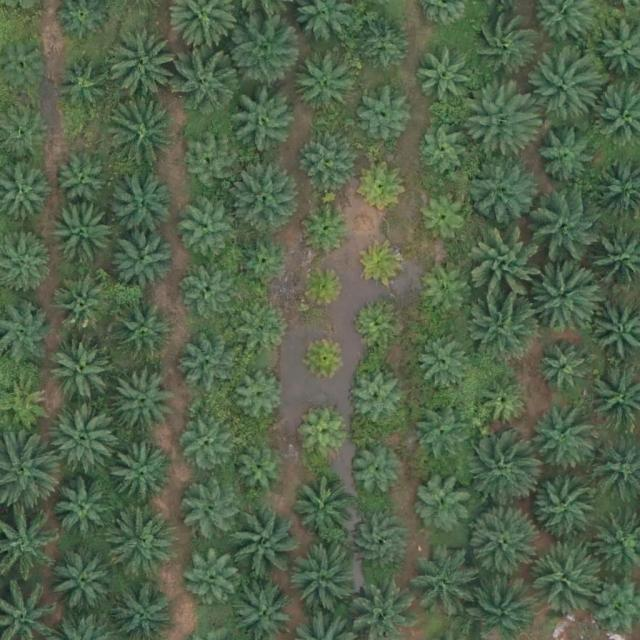Healthy: (530, 469, 601, 540), (466, 507, 537, 578), (106, 511, 177, 582), (229, 85, 300, 156), (104, 102, 175, 173), (526, 407, 596, 478), (465, 439, 535, 510), (289, 547, 359, 618), (105, 443, 176, 513), (533, 55, 603, 126), (534, 194, 604, 265), (470, 293, 541, 363), (474, 233, 544, 304), (466, 154, 536, 225), (466, 82, 536, 153), (230, 162, 300, 233), (173, 45, 243, 116), (107, 31, 177, 102), (529, 543, 599, 613), (226, 509, 296, 579), (51, 408, 121, 478), (50, 547, 120, 617), (531, 260, 601, 330), (469, 12, 539, 82), (229, 17, 299, 87), (112, 368, 175, 431), (54, 480, 117, 543), (415, 48, 478, 111), (50, 335, 113, 398), (112, 300, 175, 363), (179, 333, 242, 396), (413, 470, 475, 533), (409, 554, 471, 617), (349, 513, 412, 575), (292, 477, 354, 540), (182, 480, 244, 543), (534, 121, 596, 184), (293, 51, 355, 114), (110, 175, 172, 238), (113, 227, 175, 290), (52, 205, 114, 268), (476, 376, 531, 431), (348, 372, 403, 427), (348, 444, 403, 499), (233, 369, 288, 424), (185, 552, 240, 607), (176, 417, 231, 472), (236, 234, 291, 289), (236, 308, 291, 363), (538, 342, 593, 397), (357, 19, 412, 74), (54, 56, 109, 111), (415, 189, 470, 244), (418, 266, 473, 321), (417, 334, 472, 389), (355, 89, 410, 144), (180, 207, 235, 262), (181, 264, 236, 319), (183, 138, 238, 193), (53, 278, 108, 333), (57, 149, 112, 204), (413, 407, 467, 463), (232, 447, 286, 502), (417, 126, 471, 181), (301, 132, 355, 187)
Small: (352, 300, 399, 348), (305, 204, 352, 251)
Yellow: (303, 333, 350, 381), (361, 240, 408, 288), (300, 413, 347, 460), (300, 265, 347, 312), (361, 164, 408, 211)
